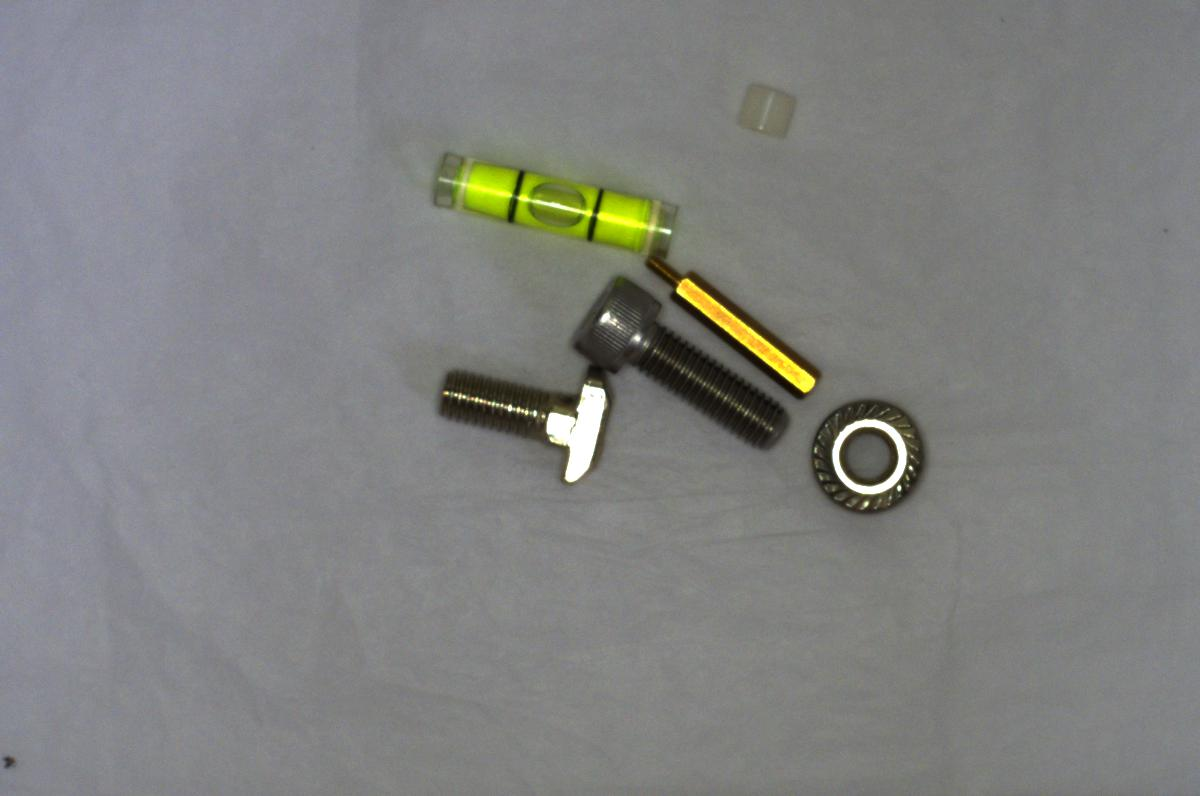Flange nut: (793, 388, 940, 523)
Hexagon pillar: (634, 255, 828, 401)
Hexagon screw: (564, 276, 788, 451)
Horizontal bubble: (424, 149, 685, 263)
Plastic cushion pillar: (732, 69, 799, 147)
T-shaped screw: (427, 359, 623, 492)
